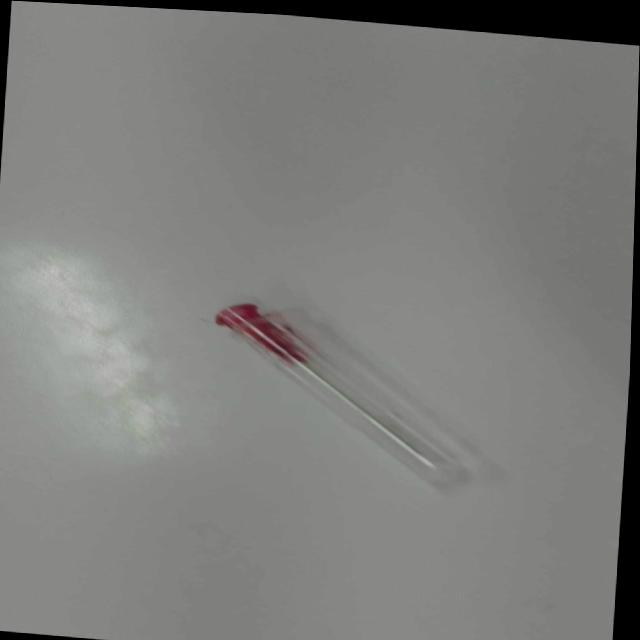General: (212, 300, 312, 370)
Pathological: (1, 2, 636, 639)
Sharps: (213, 300, 480, 490)
